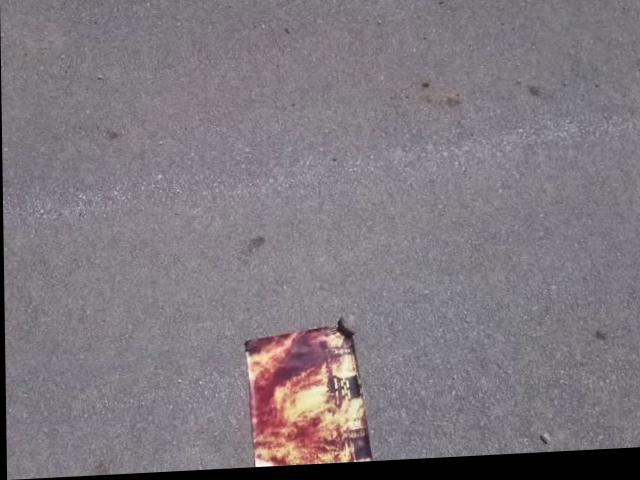fire-poster: (240, 320, 376, 469)
